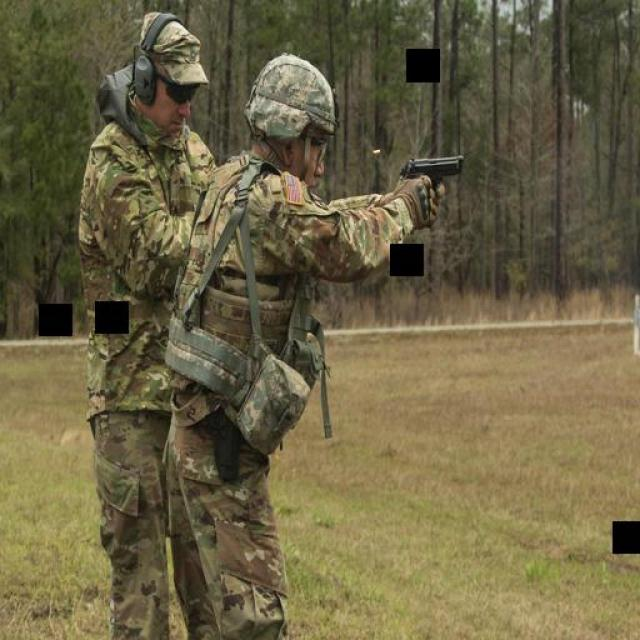gun: (397, 148, 465, 204)
